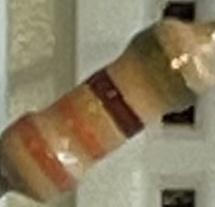Brown: (85, 64, 148, 144)
Orange: (10, 110, 80, 195), (55, 93, 111, 164)
Side-Gold: (132, 24, 199, 109)
